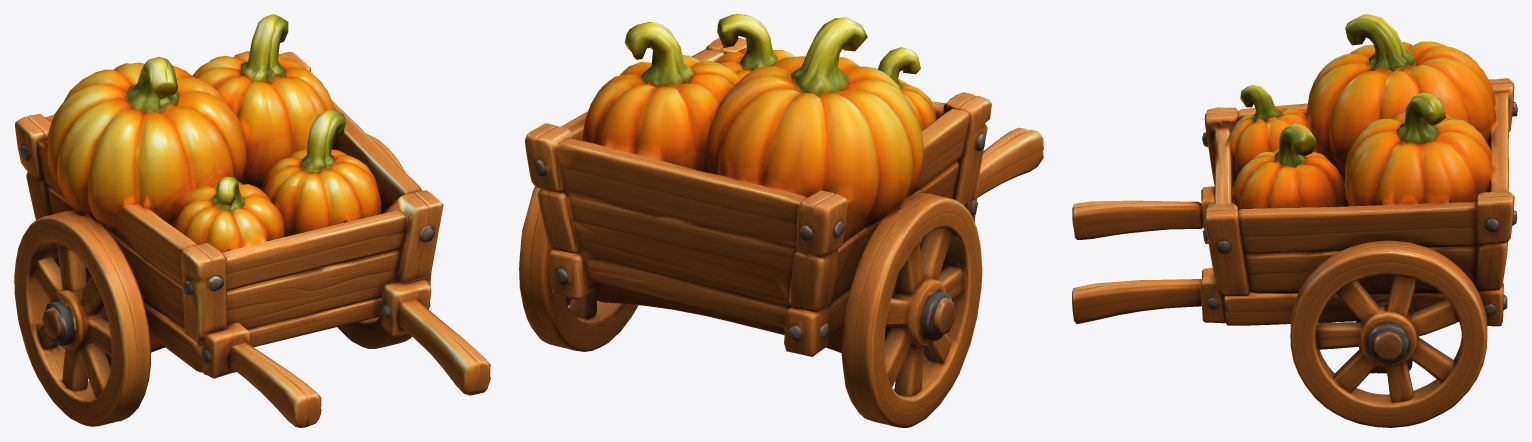
File: Kit_P_PumpkinCart_HD_src.glb
3 renders of one model, left to right at view 1: azimuth 30°, elevation 25°; view 2: azimuth 150°, elevation 25°; view 3: azimuth 270°, elevation 25°, orthographic. The views are drawn at different scales.
Visible parts, largest first — view 1: tripo_node_5072a389-cc56-43e2-a466-c75eea4c1fca; view 2: tripo_node_5072a389-cc56-43e2-a466-c75eea4c1fca; view 3: tripo_node_5072a389-cc56-43e2-a466-c75eea4c1fca.
Part boxes in pixels (x1,y1,x2,y2): tripo_node_5072a389-cc56-43e2-a466-c75eea4c1fca: (14, 14, 490, 427); tripo_node_5072a389-cc56-43e2-a466-c75eea4c1fca: (519, 14, 1043, 427); tripo_node_5072a389-cc56-43e2-a466-c75eea4c1fca: (1072, 14, 1517, 427).
Bounding box in the file's own units: 0.82 × 0.7613 × 0.9808.
1 material, 1 textured.
